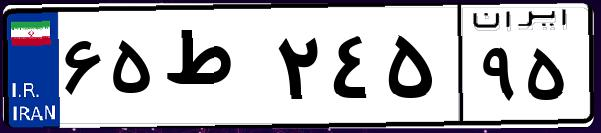2: (270, 28, 330, 110)
4: (330, 28, 385, 110)
5: (385, 28, 445, 110), (525, 38, 570, 115), (110, 28, 158, 98)
6: (57, 26, 110, 100)
9: (475, 38, 525, 113)
ط: (158, 20, 270, 120)
